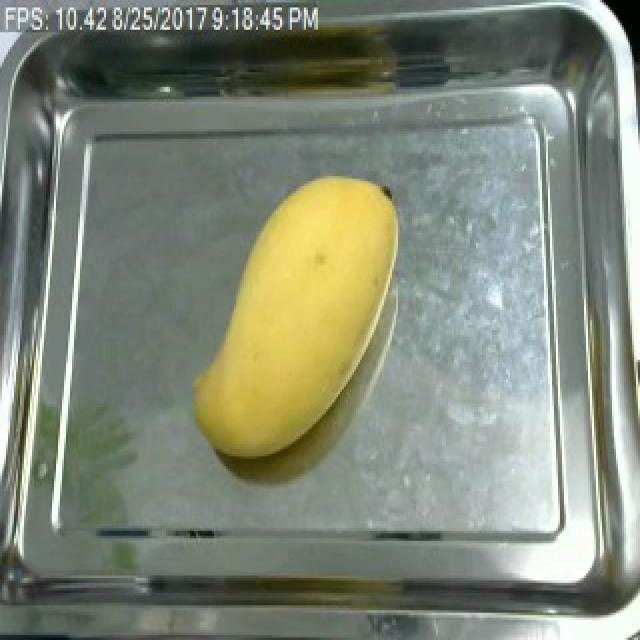fruit: (184, 164, 408, 474)
